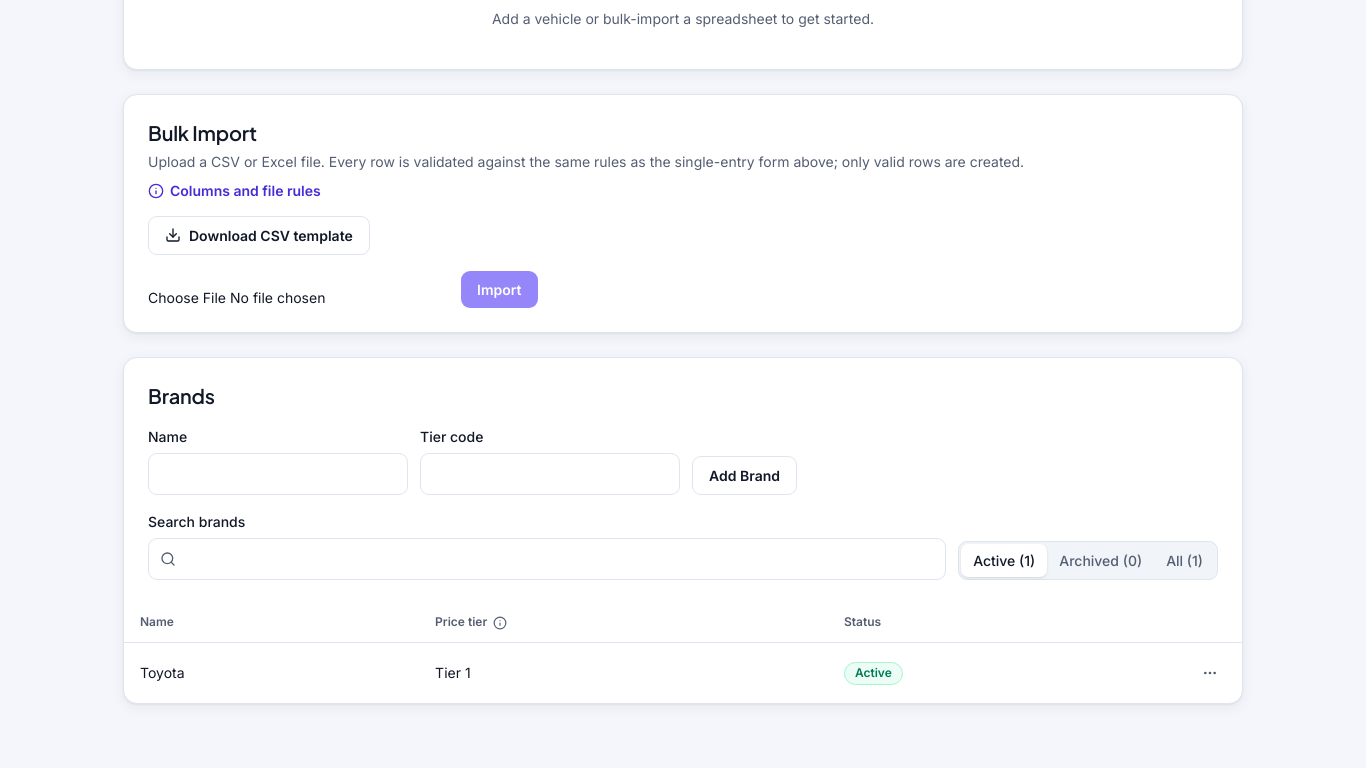
AdminFleetPage › adds a new brand via the brand management section
(page scrolled)
expect the heading "Brands" is shown: met, box [148,383,215,408]
Step 1. Type "Lexus" into the field labelled "Name" → (278,474), box [148,453,408,495]
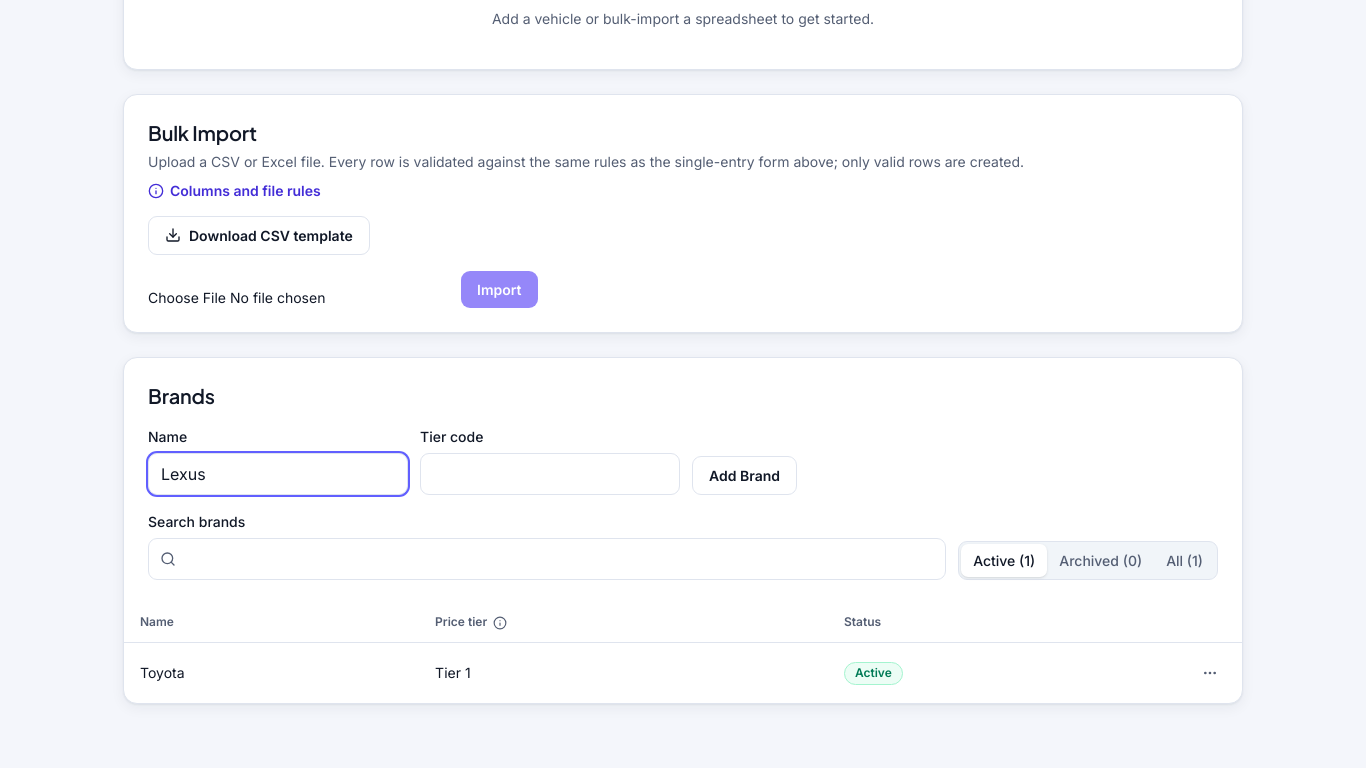
Step 2. Type "1" into the field labelled "Tier code" → (550,474), box [420,453,680,495]
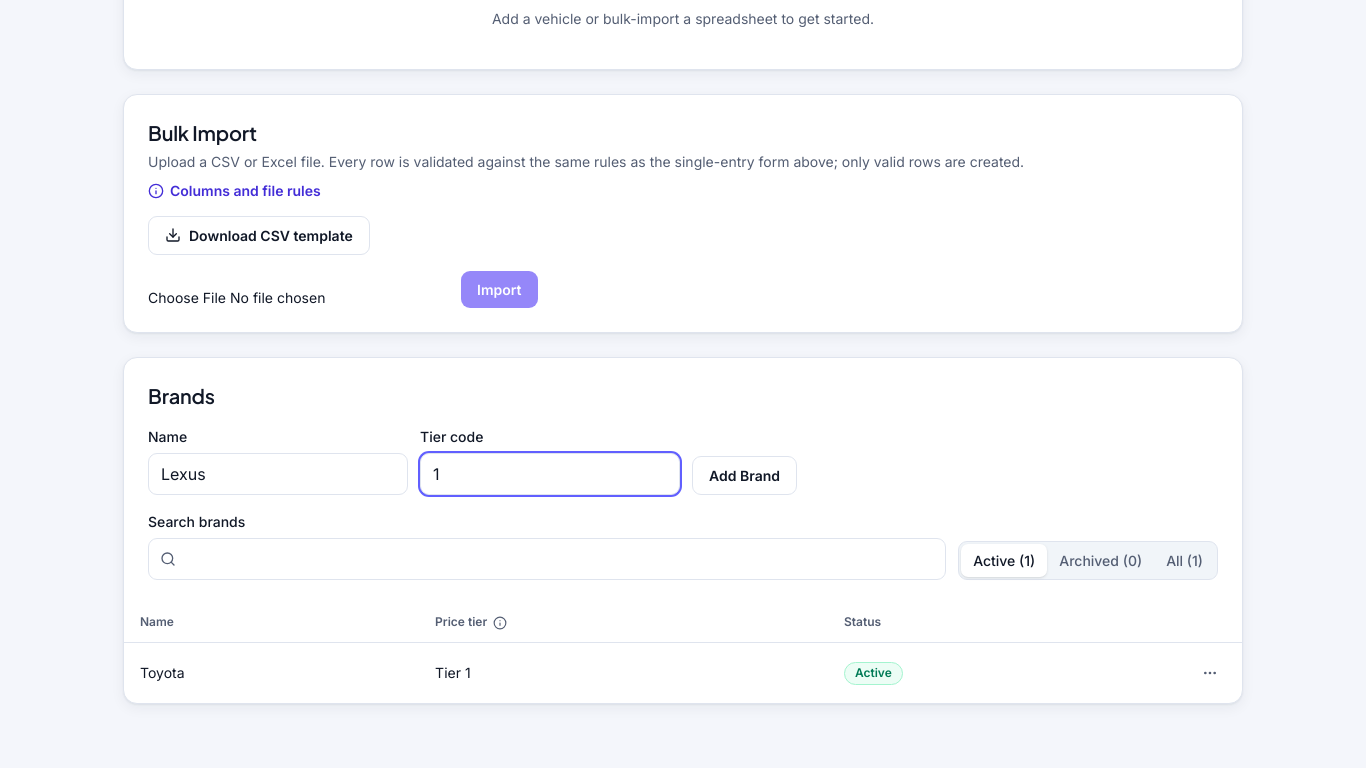
Step 3. Click the button "Add Brand" → (744,475), box [692,456,797,495]
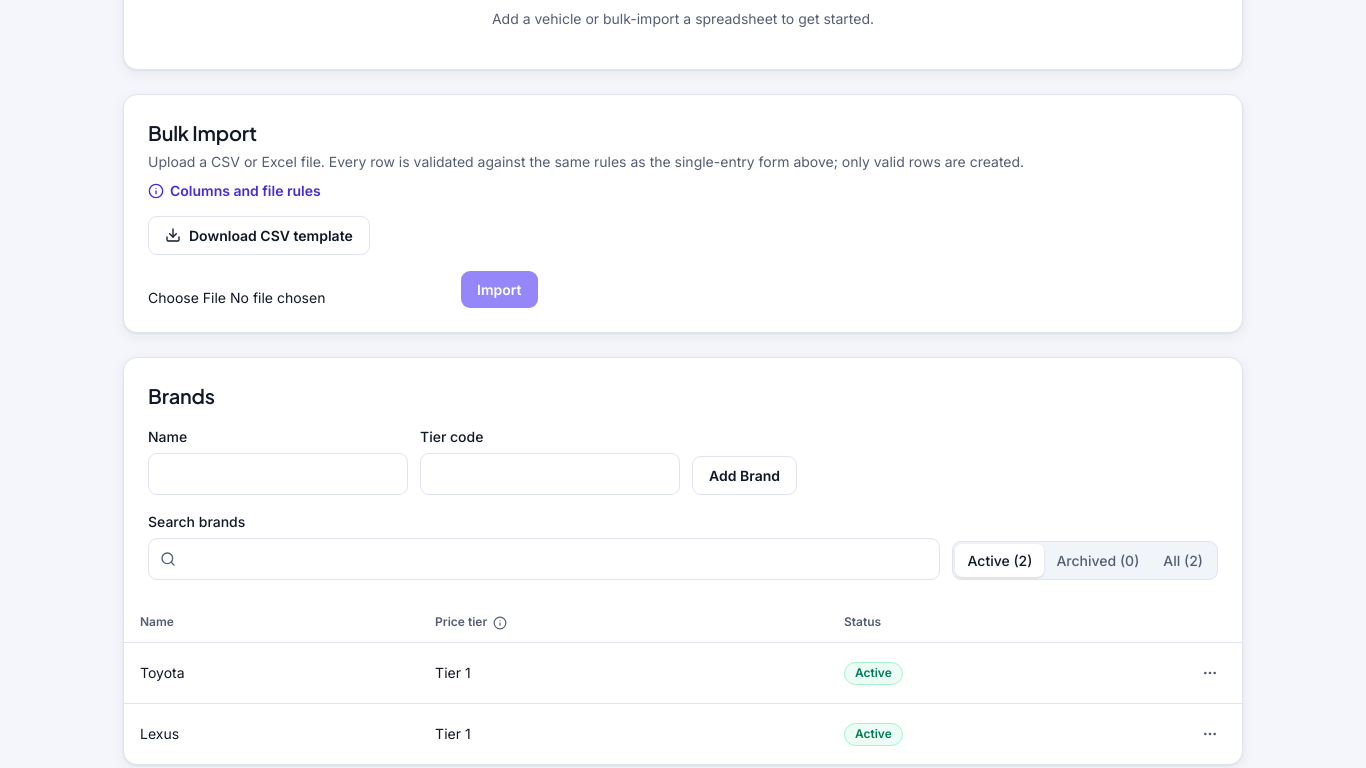
expect the cell "Lexus" is shown: met, box [124,703,419,764]
